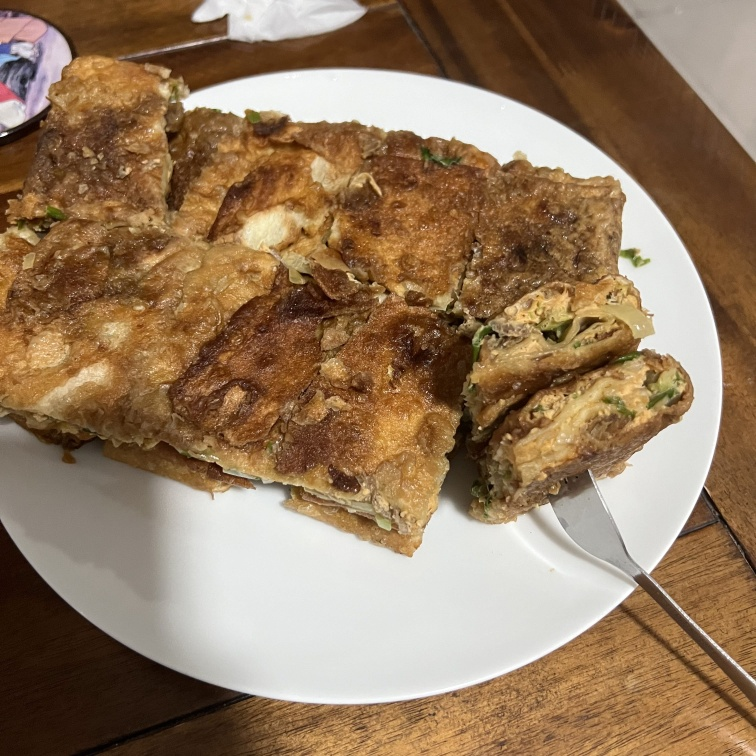martabak telor: (1, 219, 244, 451), (298, 289, 462, 526), (480, 360, 687, 518), (27, 45, 180, 212), (186, 80, 342, 242), (350, 103, 489, 277), (457, 268, 673, 368), (480, 154, 637, 279)
